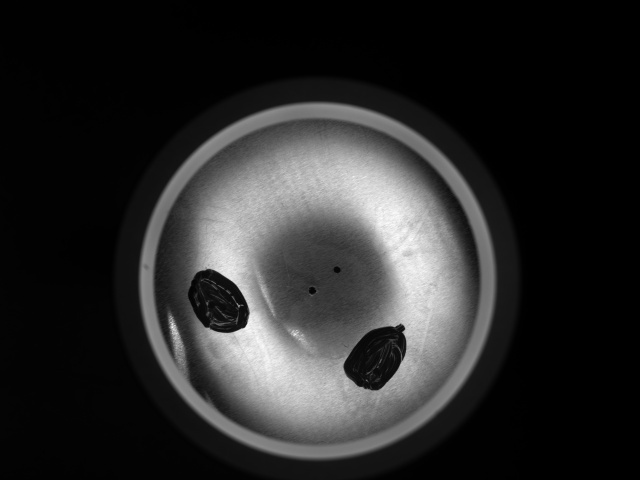zang_wu: (339, 323, 409, 392), (186, 268, 252, 334)
zhen_kong: (305, 282, 318, 296), (332, 264, 345, 274)
